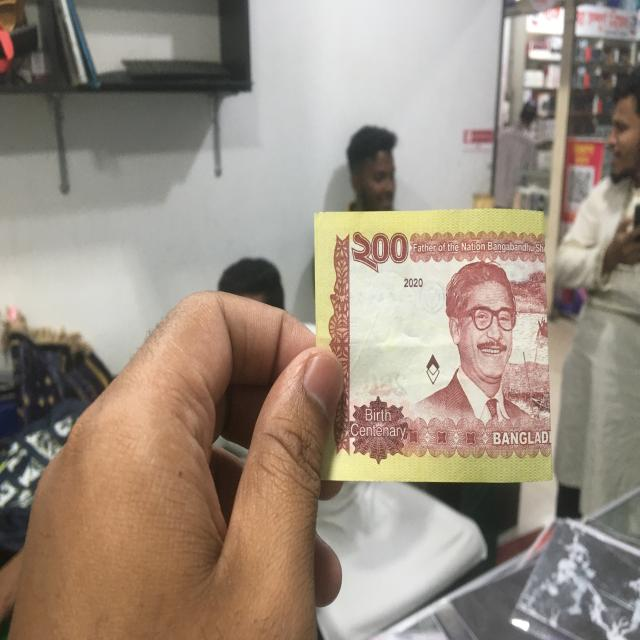Taka: (316, 212, 550, 482)
